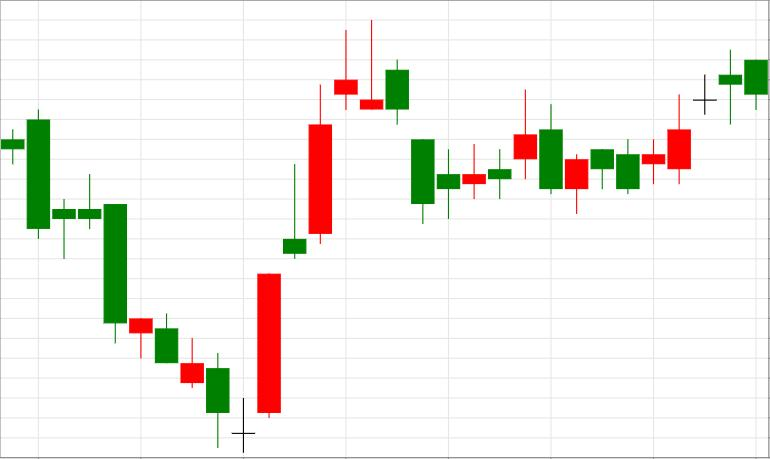morning_star_rise: (2, 110, 281, 453)
